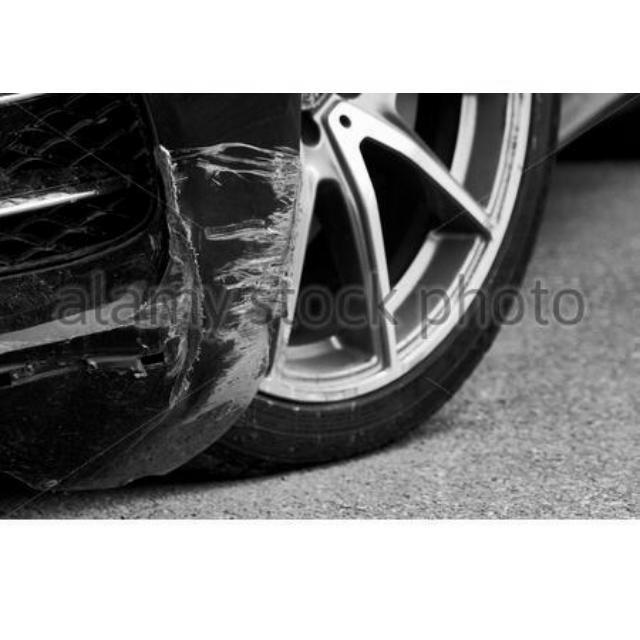front-bumper-dent: (1, 92, 352, 468)
